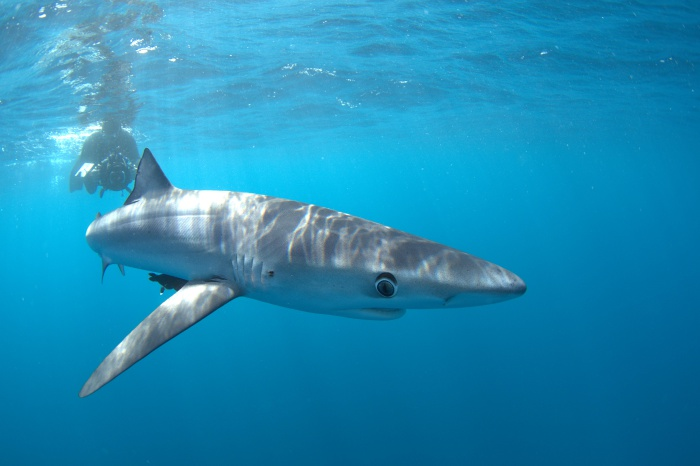Azul: (69, 143, 540, 392)
